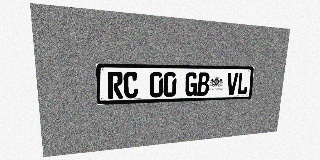0: (149, 72, 163, 98), (163, 72, 177, 97)
B: (197, 72, 210, 96)
C: (123, 72, 138, 98)
G: (185, 72, 198, 96)
L: (237, 73, 249, 95)
R: (107, 72, 123, 99)
V: (226, 73, 238, 95)
